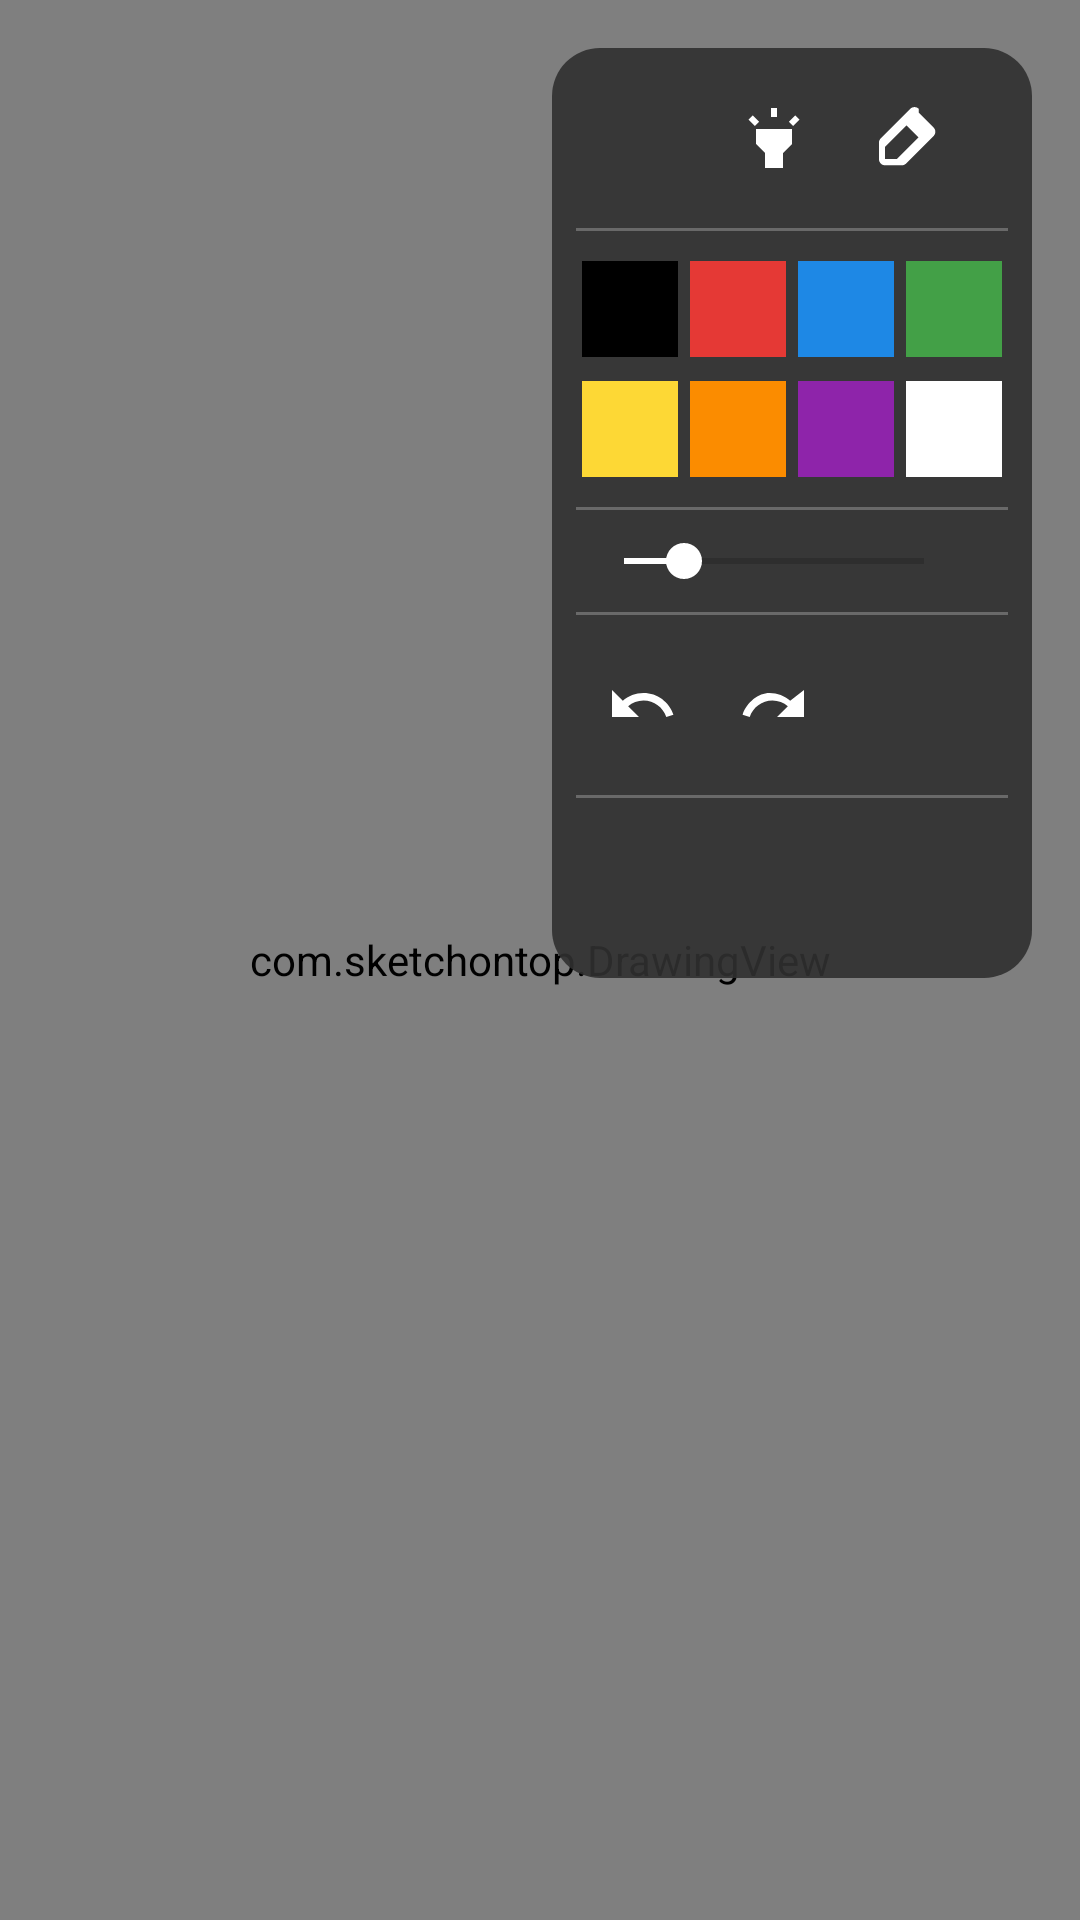

Icons on this 1080x1920 Android screen, each with the point to tap as (x,y):
Eraser: (907,136)
Highlighter: (774,138)
Redo: (773,703)
Undo: (643,703)
